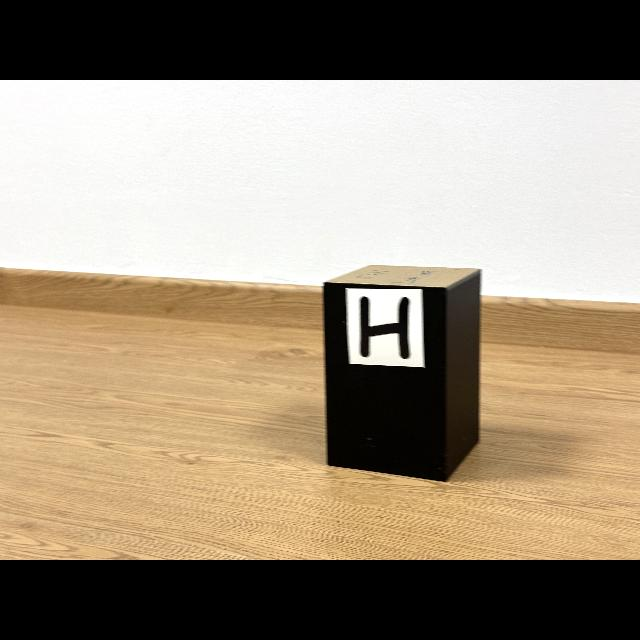H: (360, 296, 409, 359)
